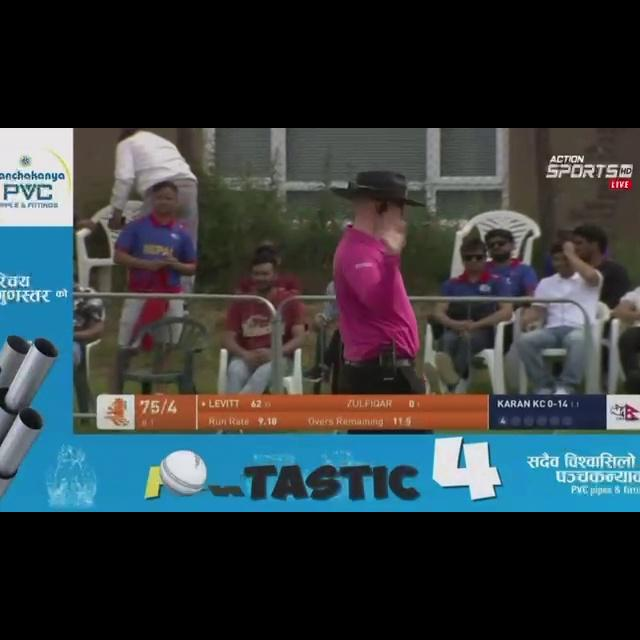umpire: (264, 140, 465, 382)
